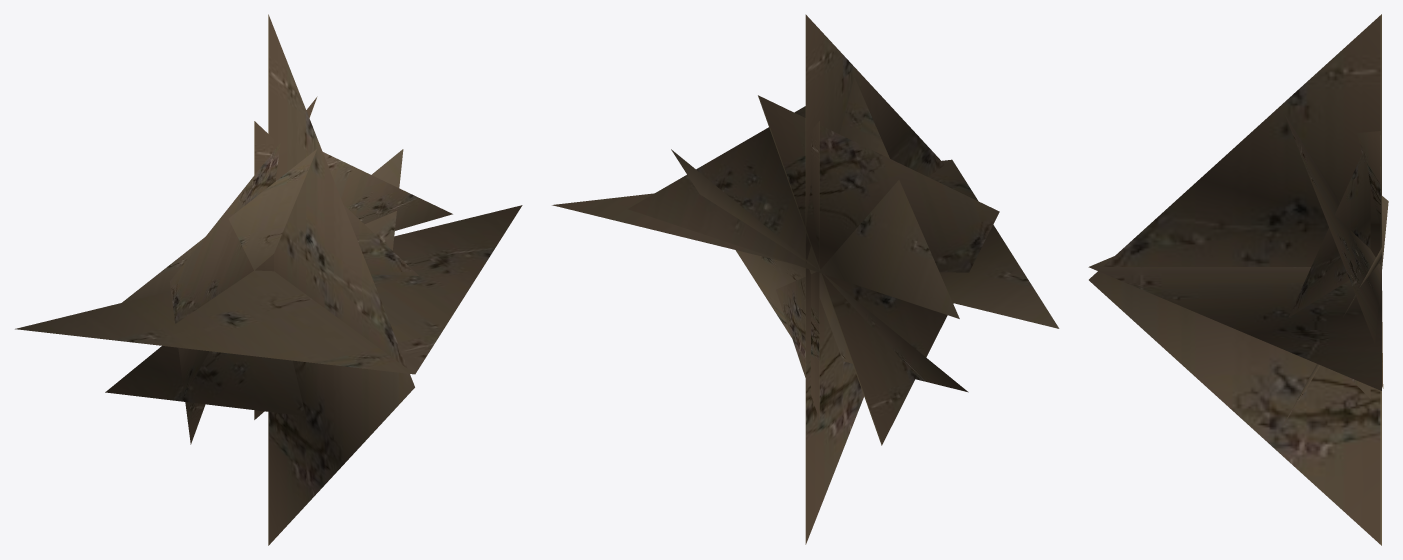
File: caen_grasstuft_5.glb
The picture shows the model from 3 angles, left to right: view 1: azimuth 30°, elevation 25°; view 2: azimuth 150°, elevation 25°; view 3: azimuth 270°, elevation 25°; orthographic projection.
Size of the model in its own units: 52.52 by 52.52 by 26.87.
1 material, 1 textured.
